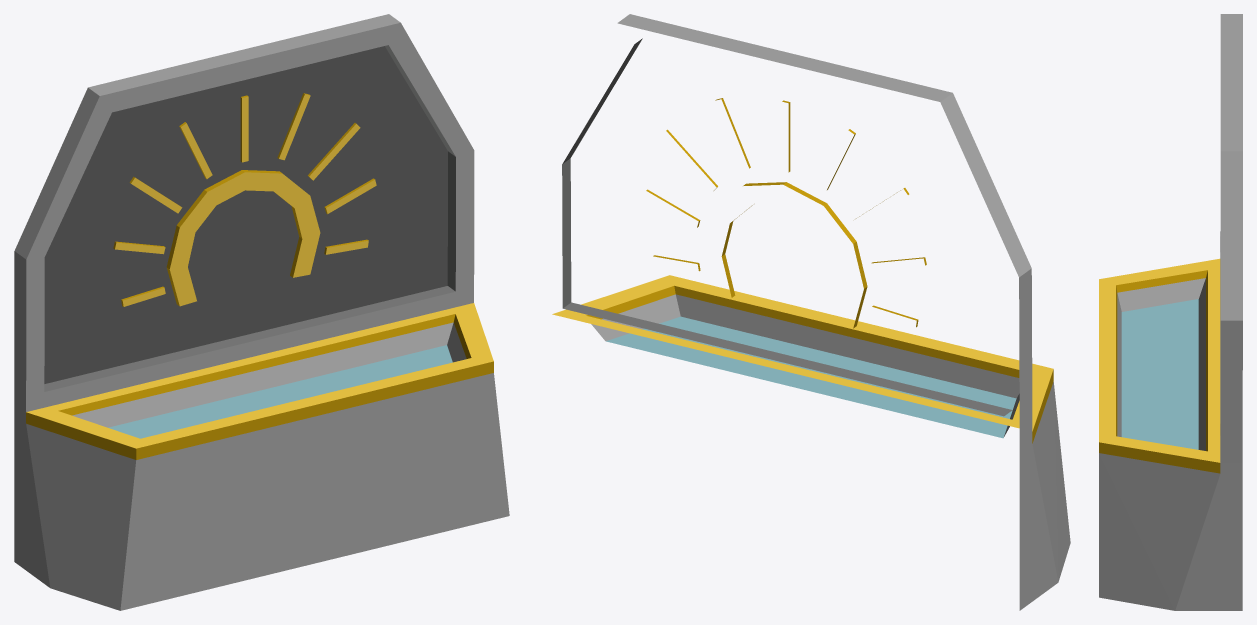
File: ChurchFountain.glb
The picture shows the model from 3 angles, left to right: view 1: azimuth 30°, elevation 25°; view 2: azimuth 150°, elevation 25°; view 3: azimuth 270°, elevation 25°; orthographic projection. The views are drawn at different scales.
Visible parts, largest first — view 1: SunFountain; view 2: SunFountain; view 3: SunFountain.
Part boxes in pixels (x1,y1,x2,y2): SunFountain: [14, 14, 509, 610]; SunFountain: [552, 14, 1070, 610]; SunFountain: [1099, 14, 1242, 610].
Size of the model in its own units: 1.94 by 1.88 by 0.5765.
1 material, 1 textured.
